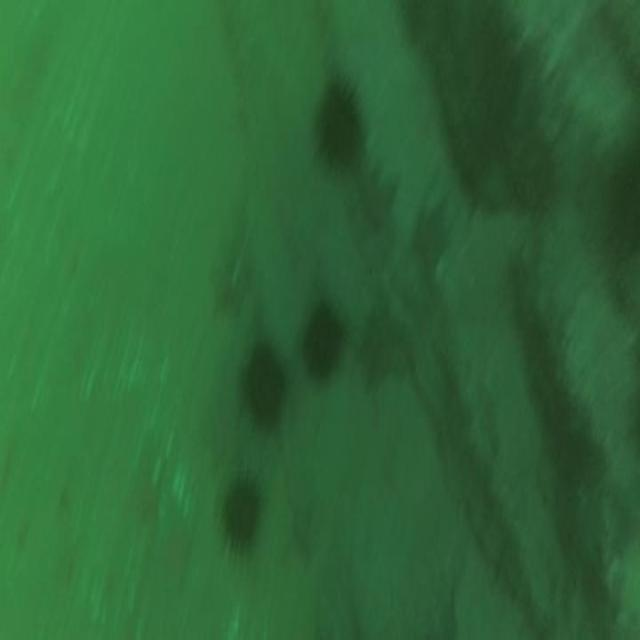echinus: (310, 73, 370, 177), (210, 460, 268, 562), (293, 289, 351, 389), (238, 332, 292, 439)
starfish: (354, 305, 412, 390), (412, 194, 455, 280), (356, 163, 404, 237), (213, 246, 249, 313)
